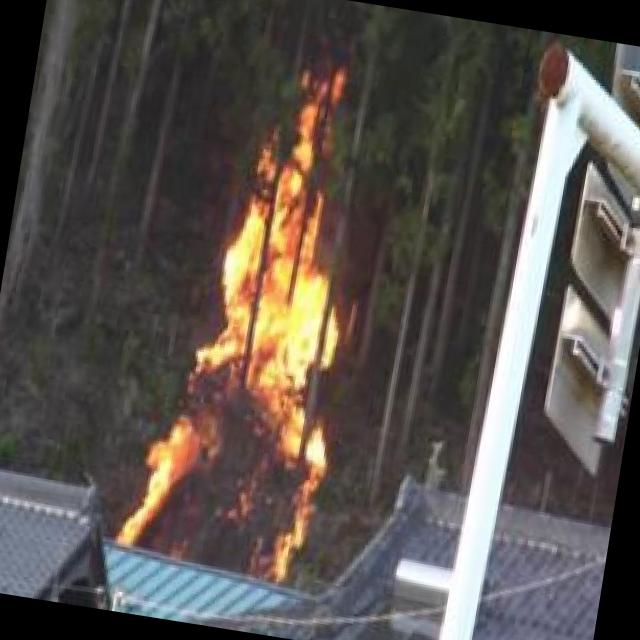Fire: (120, 89, 382, 573)
